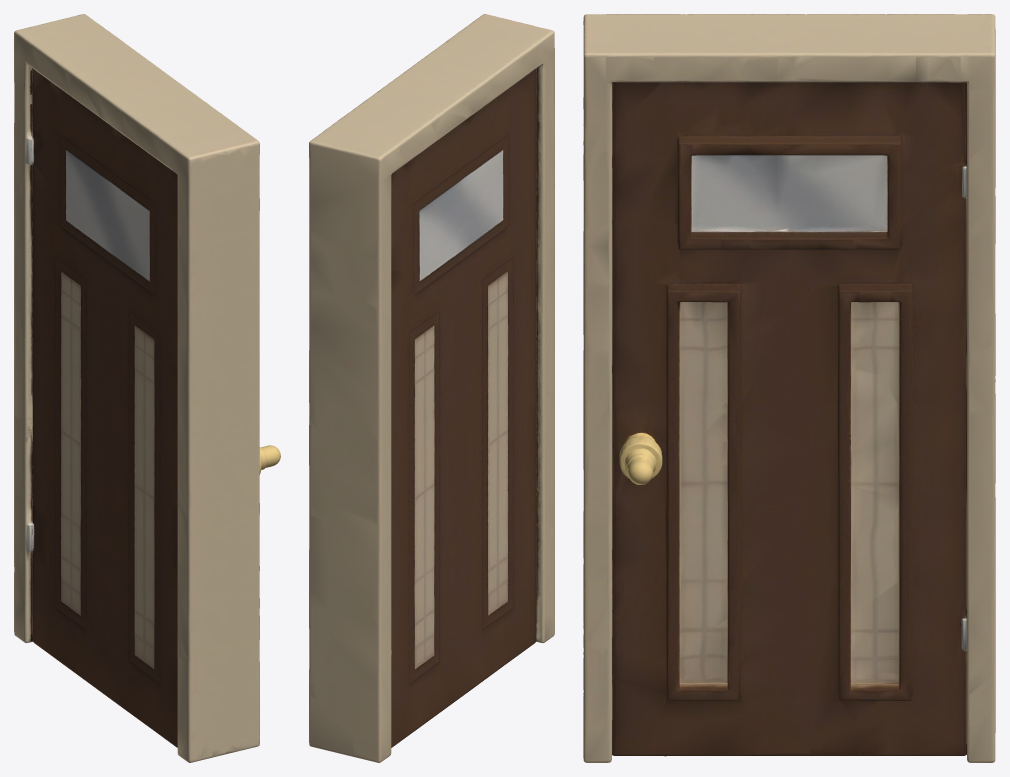
Rendered from KR_사물_s1_door_restroom_old.glb.
The picture shows the model from 3 angles, left to right: view 1: azimuth 30°, elevation 25°; view 2: azimuth 150°, elevation 25°; view 3: azimuth 270°, elevation 25°; orthographic projection. The views are drawn at different scales.
Parts seen in each view (by area): view 1: tripo_node_6ec2f73e-f5e7-4c8b-a821-18aca6165183; view 2: tripo_node_6ec2f73e-f5e7-4c8b-a821-18aca6165183; view 3: tripo_node_6ec2f73e-f5e7-4c8b-a821-18aca6165183.
Boxes of the visible parts, x1,y1,x2,y2 form: tripo_node_6ec2f73e-f5e7-4c8b-a821-18aca6165183: (14,14,280,762); tripo_node_6ec2f73e-f5e7-4c8b-a821-18aca6165183: (309,14,554,762); tripo_node_6ec2f73e-f5e7-4c8b-a821-18aca6165183: (583,14,995,762).
Bounding box in the file's own units: 0.1987 × 0.9999 × 0.5262.
1 material, 1 textured.
